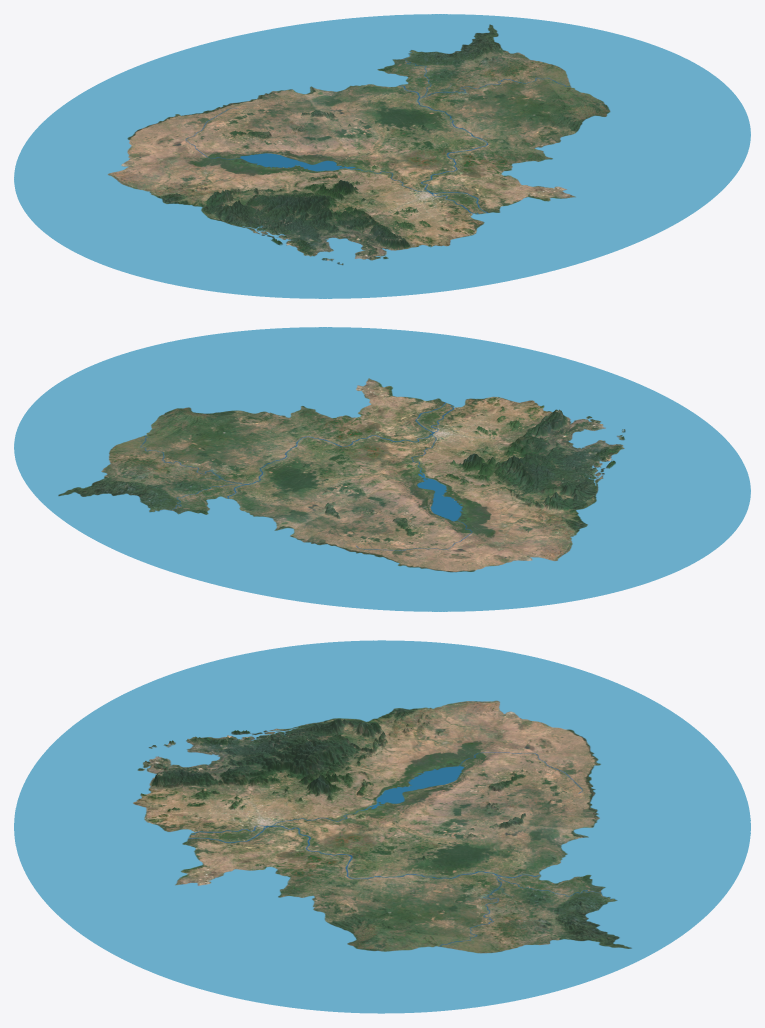
File: KHM-previa-terrain.glb
3 renders of one model, top to bottom at view 1: azimuth 30°, elevation 25°; view 2: azimuth 150°, elevation 25°; view 3: azimuth 270°, elevation 25°, orthographic. The views are drawn at different scales.
Visible parts, largest first — view 1: Camboja; view 2: Camboja; view 3: Camboja.
Part boxes in pixels (x1,y1,x2,y2): Camboja: (14, 14, 750, 298); Camboja: (14, 327, 750, 611); Camboja: (14, 640, 750, 1013).
Bounding box in the file's own units: 2.59 × 0.0467 × 2.16.
Materials: 1 (1 with a texture image).
